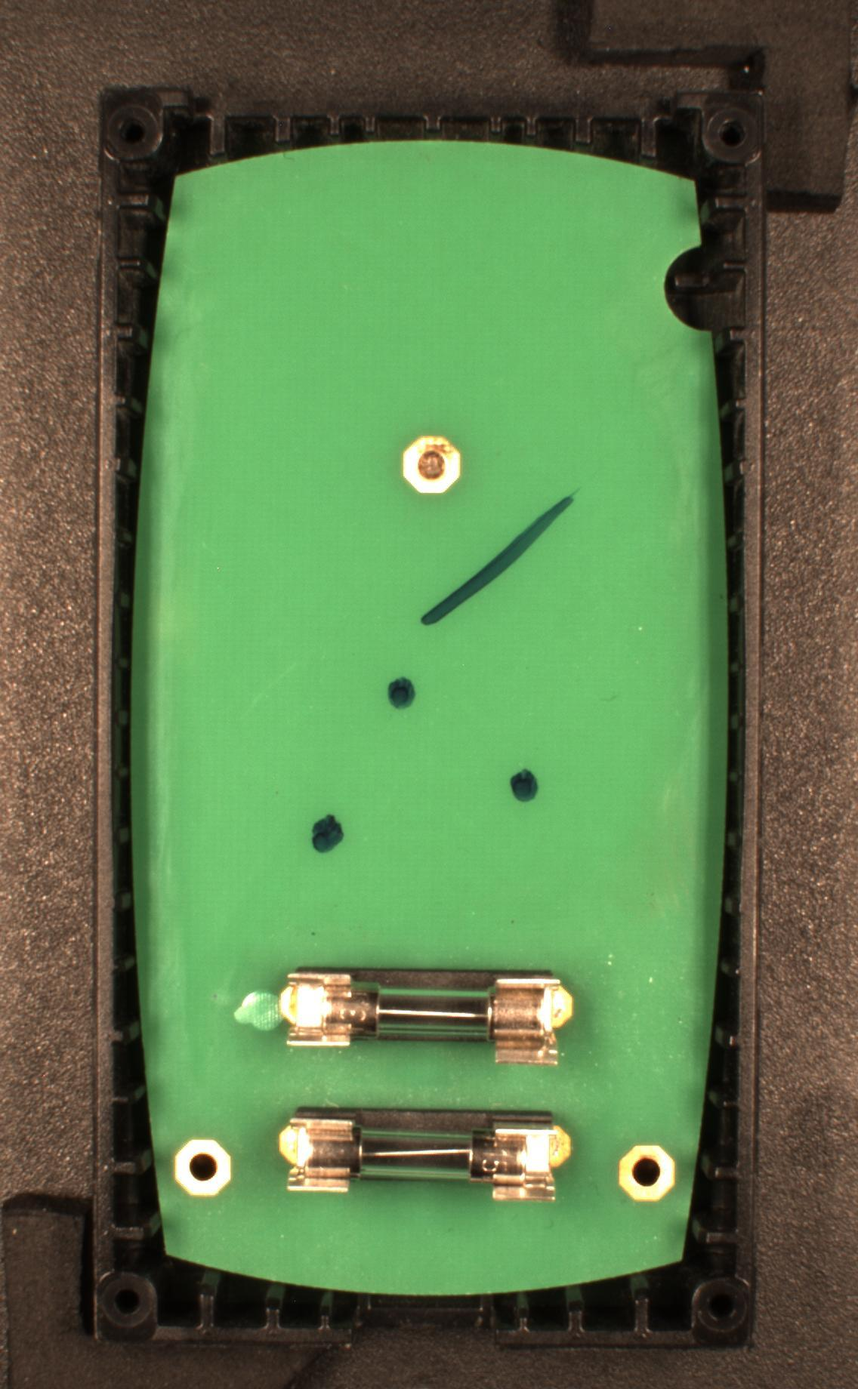Linijsko Ostecene: (418, 494, 576, 627)
Tockasto Ostecenje: (307, 812, 349, 855), (385, 674, 418, 712), (510, 767, 542, 803)
